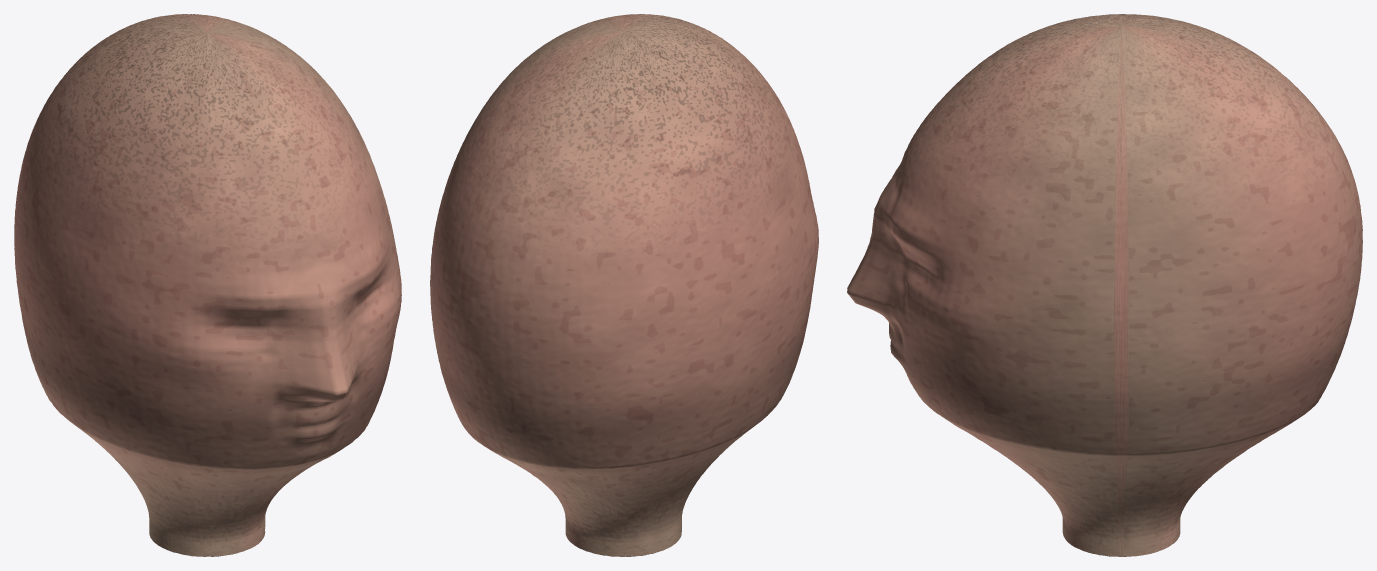
Rendered from tls_chr_001_head_sculpt_v002.glb.
The picture shows the model from 3 angles, left to right: view 1: azimuth 30°, elevation 25°; view 2: azimuth 150°, elevation 25°; view 3: azimuth 270°, elevation 25°; orthographic projection.
Visible parts, largest first — view 1: TLS_Edmund_HeadSculpt_v2; view 2: TLS_Edmund_HeadSculpt_v2; view 3: TLS_Edmund_HeadSculpt_v2.
Part boxes in pixels (bbox=[...]): TLS_Edmund_HeadSculpt_v2: bbox=[14, 14, 401, 556]; TLS_Edmund_HeadSculpt_v2: bbox=[430, 14, 818, 556]; TLS_Edmund_HeadSculpt_v2: bbox=[847, 14, 1362, 556].
Size of the model in its own units: 0.1581 by 0.247 by 0.228.
Materials: 1 (1 with a texture image).
